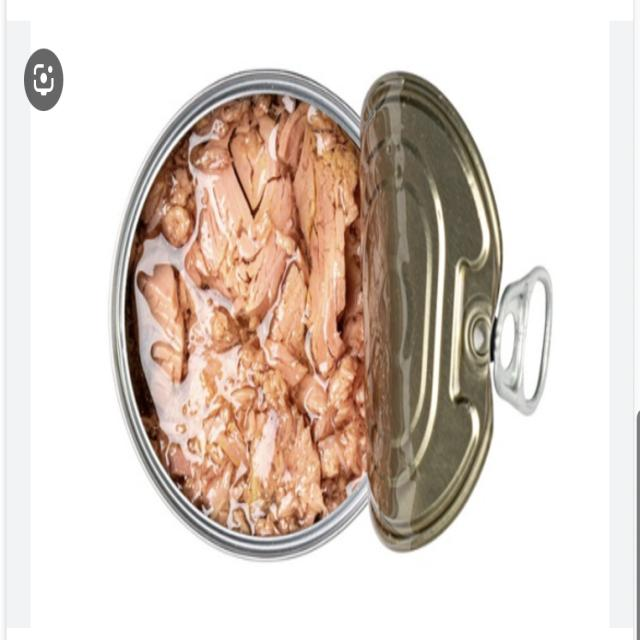can: (105, 61, 589, 584)
